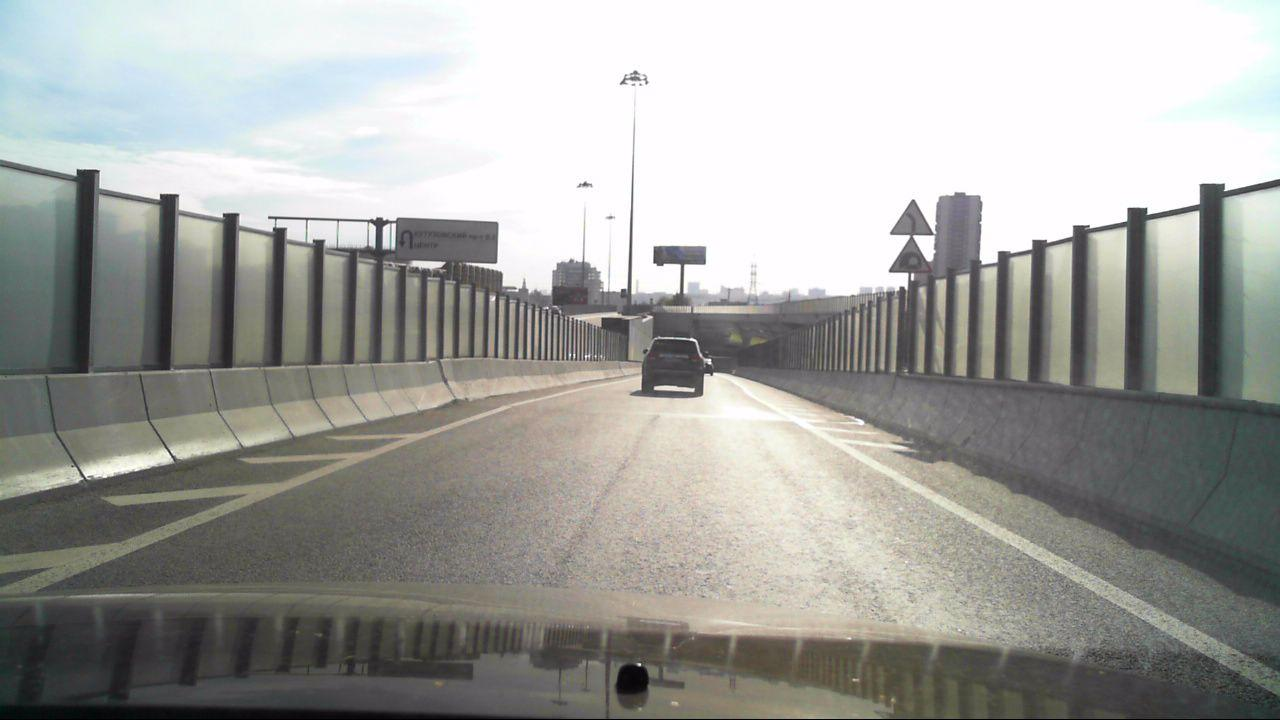1_11_2: (889, 193, 935, 236)
1_31: (886, 234, 932, 273)
6_9_1: (396, 217, 500, 266)
